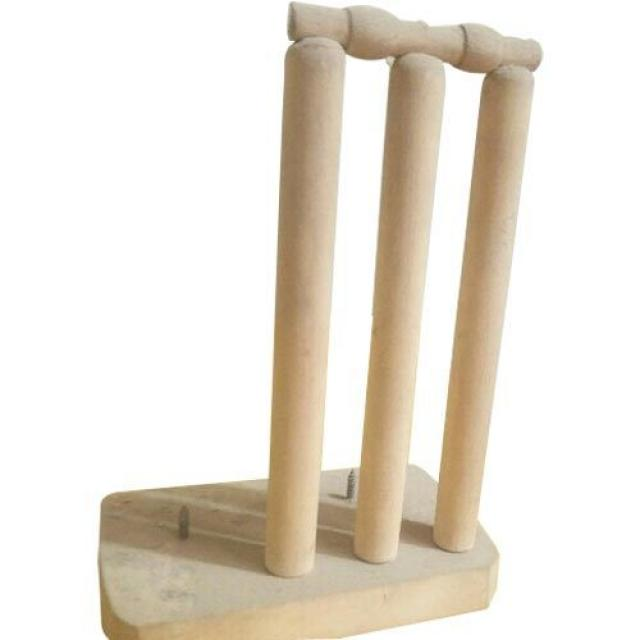stump: (263, 0, 545, 581)
